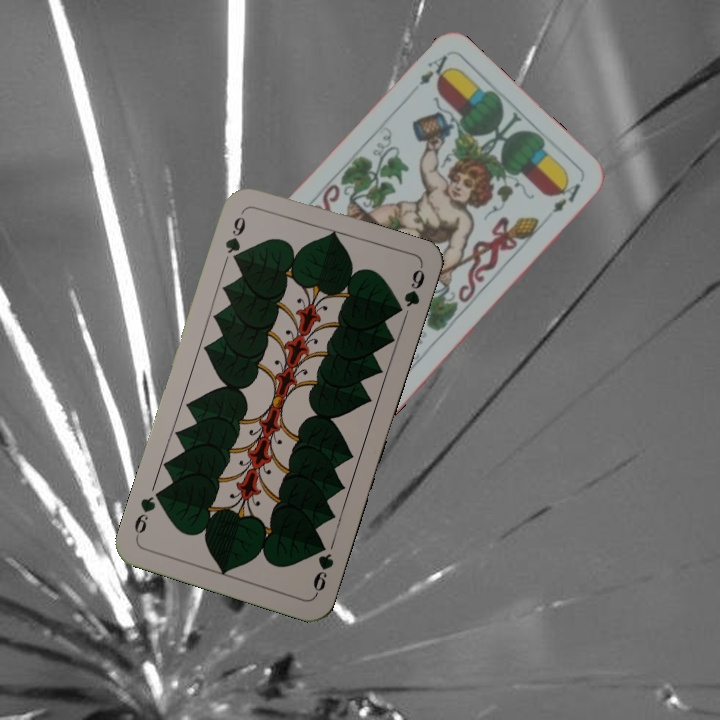EA: (415, 51, 454, 88)
G9: (309, 537, 337, 598), (221, 212, 249, 267)
